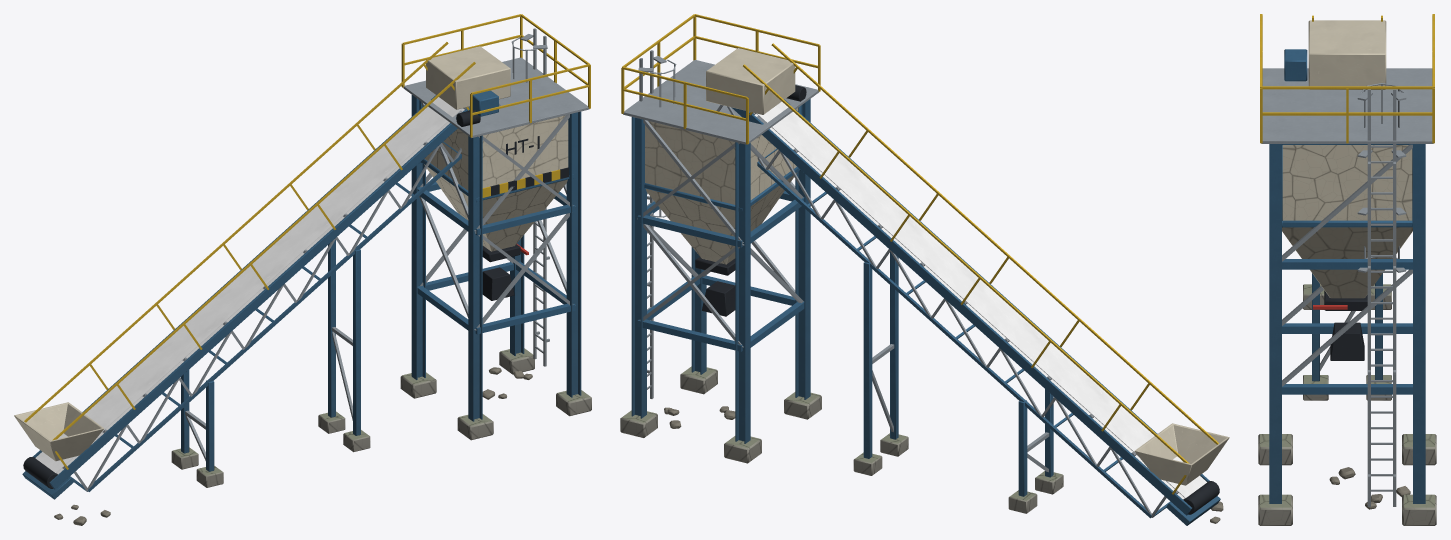
File: conveyor_tower.glb
3 renders of one model, left to right at view 1: azimuth 30°, elevation 25°; view 2: azimuth 150°, elevation 25°; view 3: azimuth 270°, elevation 25°, orthographic. The views are drawn at different scales.
Parts seen in each view (by area): view 1: conveyor_tower; view 2: conveyor_tower; view 3: conveyor_tower.
Part boxes in pixels (<box>): conveyor_tower: <box>14,14,591,525</box>; conveyor_tower: <box>620,14,1229,525</box>; conveyor_tower: <box>1258,14,1436,525</box>.
Bounding box in the file's own units: 13.37 × 8.67 × 3.1.
Materials: 14 (14 with a texture image).
